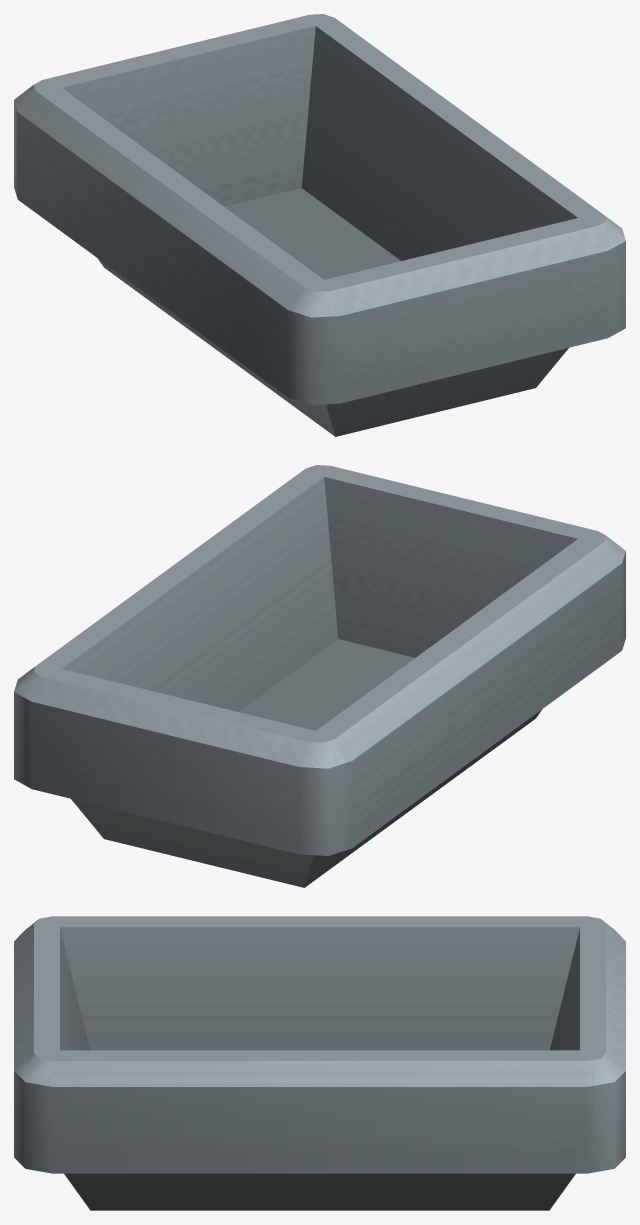
Rendered from icecream_container.gltf.
3 views of the same model, one above another, from view 1: azimuth 30°, elevation 25°; view 2: azimuth 150°, elevation 25°; view 3: azimuth 270°, elevation 25° (orthographic).
Visible parts, largest first — view 1: icecream_container; view 2: icecream_container; view 3: icecream_container.
Boxes of the visible parts, x1,y1,x2,y2 form: icecream_container: (14, 14, 625, 436); icecream_container: (14, 465, 625, 887); icecream_container: (14, 916, 625, 1210).
Bounding box in the file's own units: 1 × 0.5 × 1.6.
1 material, 1 textured.
